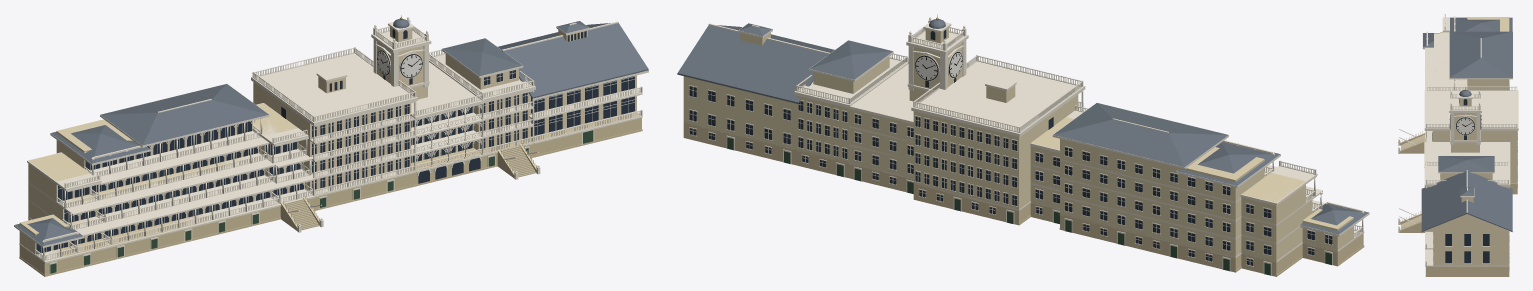
File: victorian_grandstand.glb
3 renders of one model, left to right at view 1: azimuth 30°, elevation 25°; view 2: azimuth 150°, elevation 25°; view 3: azimuth 270°, elevation 25°, orthographic. The views are drawn at different scales.
Parts seen in each view (by area): view 1: grandstand_trim, grandstand_roof, grandstand_wall, grandstand_glass, grandstand_podium, grandstand_iron, grandstand_steps, grandstand_door, grandstand_clock_face; view 2: grandstand_wall, grandstand_trim, grandstand_roof, grandstand_glass, grandstand_podium, grandstand_door, grandstand_clock_face; view 3: grandstand_trim, grandstand_roof, grandstand_wall, grandstand_podium, grandstand_glass, grandstand_steps, grandstand_clock_face, grandstand_clock_dark.
Part boxes in pixels (x1,y1,x2,y2): grandstand_trim: (14, 17, 648, 275); grandstand_roof: (15, 18, 648, 245); grandstand_wall: (19, 27, 636, 253); grandstand_glass: (36, 29, 634, 253); grandstand_podium: (19, 112, 642, 276); grandstand_iron: (414, 104, 482, 170); grandstand_steps: (284, 146, 536, 230); grandstand_door: (50, 130, 593, 273); grandstand_clock_face: (377, 51, 421, 77); grandstand_wall: (683, 27, 1353, 260); grandstand_trim: (686, 17, 1369, 275); grandstand_roof: (677, 19, 1368, 234); grandstand_glass: (689, 30, 1332, 265); grandstand_podium: (683, 122, 1364, 276); grandstand_door: (727, 137, 1331, 275); grandstand_clock_face: (916, 53, 962, 79); grandstand_trim: (1398, 14, 1518, 270); grandstand_roof: (1421, 17, 1512, 231); grandstand_wall: (1425, 17, 1517, 265); grandstand_podium: (1400, 133, 1517, 276); grandstand_glass: (1432, 99, 1489, 263); grandstand_steps: (1401, 134, 1425, 229); grandstand_clock_face: (1449, 115, 1474, 134); grandstand_clock_dark: (1449, 115, 1481, 134).
Size of the model in its own units: 126 by 29.75 by 28.95.
